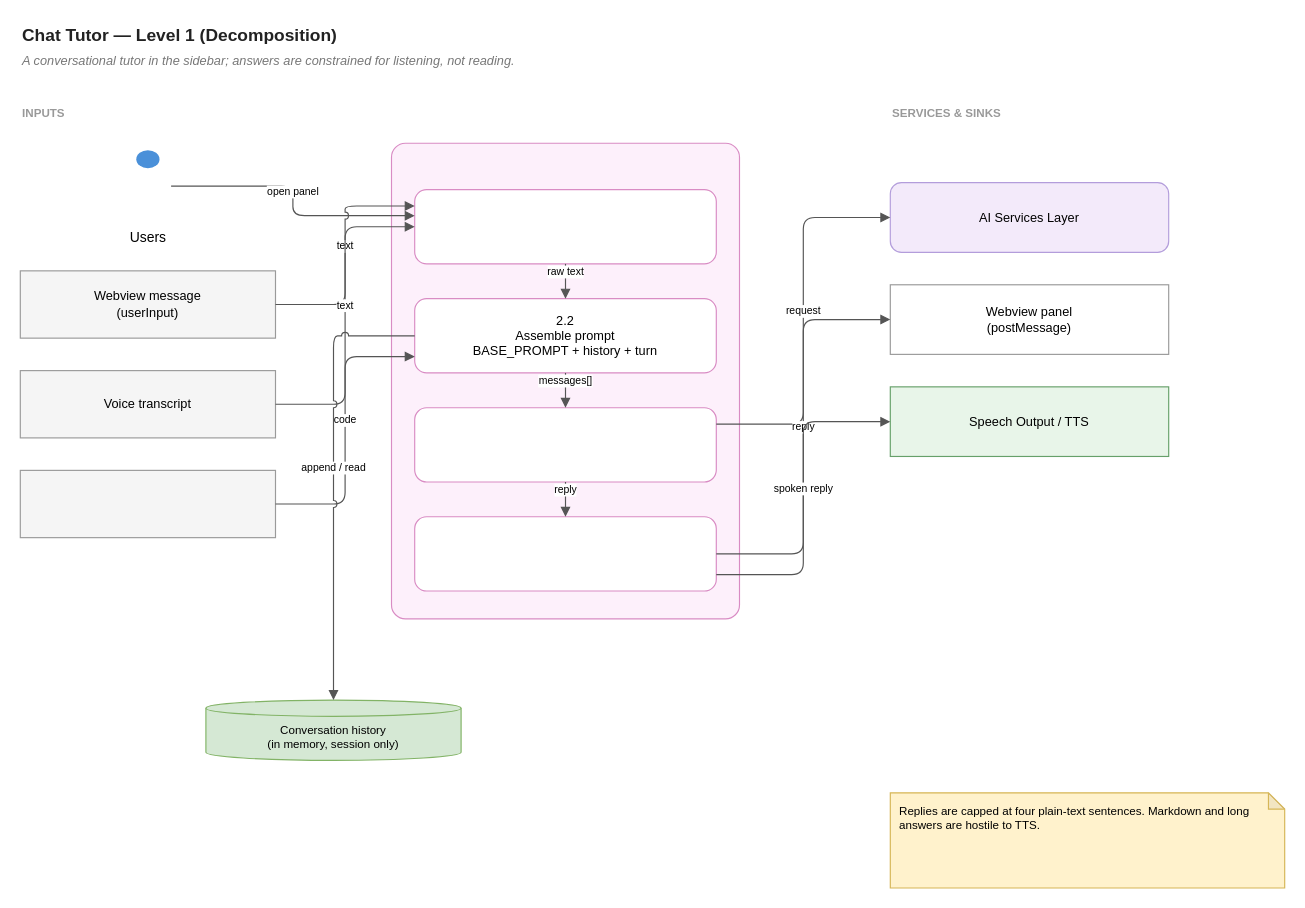
The diagram is 1305 pixels wide and 908 high, and some of its shapes have lost their labels. The box of each missing label's shape, as (x1, y1, x2, y2) in pixels:
2.1 Receive message (onDidReceiveMessage): (414, 188, 716, 264)
2.3 Dispatch to provider requestTextFromMessages(): (414, 407, 716, 482)
2.4 Render + speak reply: (414, 516, 716, 591)
ECHOCODE CORE: (390, 142, 740, 619)
Editor Context: (19, 469, 276, 538)
